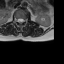CCS_normal: (19, 16, 21, 25)
LFS_normal: (24, 17, 26, 22)
LLS_normal: (21, 17, 24, 24)
RFS_normal: (15, 17, 17, 23)
RLS_normal: (17, 17, 19, 23)
